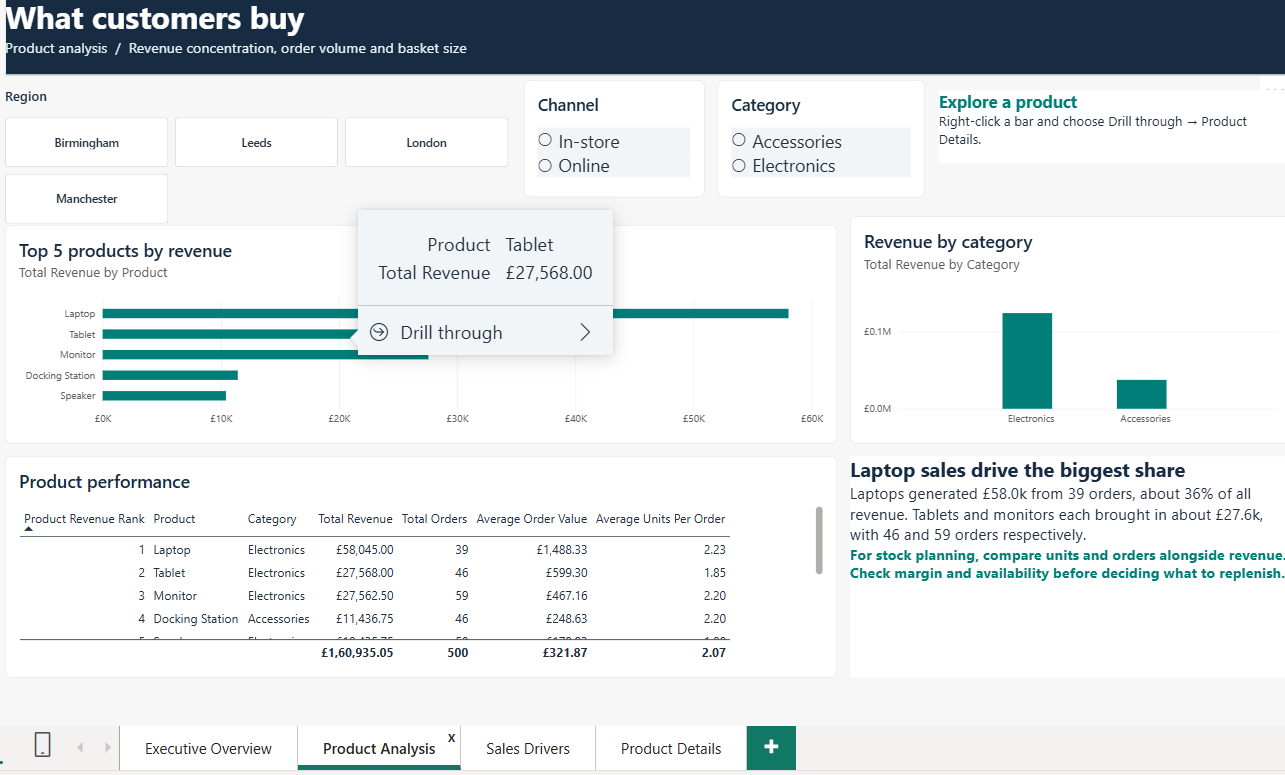

Layout of this report page (visuals, bound fields, positions):
{"tool":"powerbi","page":{"name":"Product Analysis","canvas":[1600,900],"ordinal":1},"visuals":[{"type":"textbox","box":[24,20,1552,95],"z":0},{"type":"advancedSlicerVisual","fields":{"Values":["Sales Data.Region"]},"box":[24.1,128.2,609.3,167.4],"z":1000},{"type":"listSlicer","fields":{"Values":["Sales Data.Channel"]},"box":[650,120.6,218.7,141.8],"z":2000},{"type":"listSlicer","fields":{"Values":["Sales Data.Category"]},"box":[883.7,120.6,250.3,141.8],"z":3000},{"type":"textbox","box":[1150,132,426,88],"z":4000},{"type":"clusteredBarChart","title":"Top 5 products by revenue","fields":{"Category":["Sales Data.Product"],"Y":["Sales Data.Total Revenue"]},"box":[24.1,295.6,1004.4,263.9],"z":5000},{"type":"columnChart","title":"Revenue by category","fields":{"Category":["Sales Data.Category"],"Y":["Sales Data.Total Revenue"]},"box":[1043.6,285,532.3,274.5],"z":6000},{"type":"tableEx","title":"Product performance","fields":{"Values":["Date Table.Product Revenue Rank","Sales Data.Product","Sales Data.Category","Sales Data.Total Revenue","Sales Data.Total Orders","Sales Data.Average Order Value","Date Table.Average Units Per Order"]},"box":[24,574,1004,267],"z":7000},{"type":"textbox","box":[1044,574,532,267],"z":8000}]}

Visuals, with their boxes on the page's 1600x900 design canvas (x1, y1, x2, y2). These are canvas units, not pixel positions in the 1285x775 screenshot, which may show the page scaled, cropped or inside an application window:
textbox: box=[24, 20, 1576, 115]
advancedSlicerVisual - Sales Data.Region: box=[24, 128, 633, 296]
listSlicer - Sales Data.Channel: box=[650, 121, 869, 262]
listSlicer - Sales Data.Category: box=[884, 121, 1134, 262]
textbox: box=[1150, 132, 1576, 220]
"Top 5 products by revenue" clusteredBarChart: box=[24, 296, 1028, 560]
"Revenue by category" columnChart: box=[1044, 285, 1576, 560]
"Product performance" tableEx: box=[24, 574, 1028, 841]
textbox: box=[1044, 574, 1576, 841]
